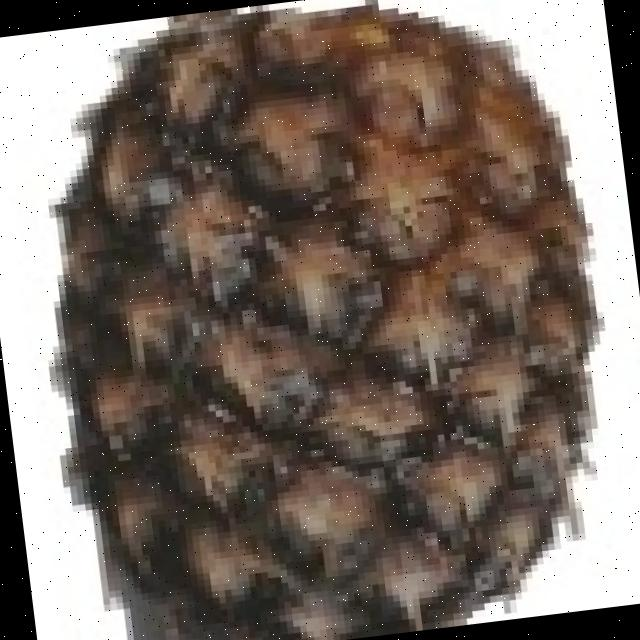pineapple: (54, 0, 598, 640)
